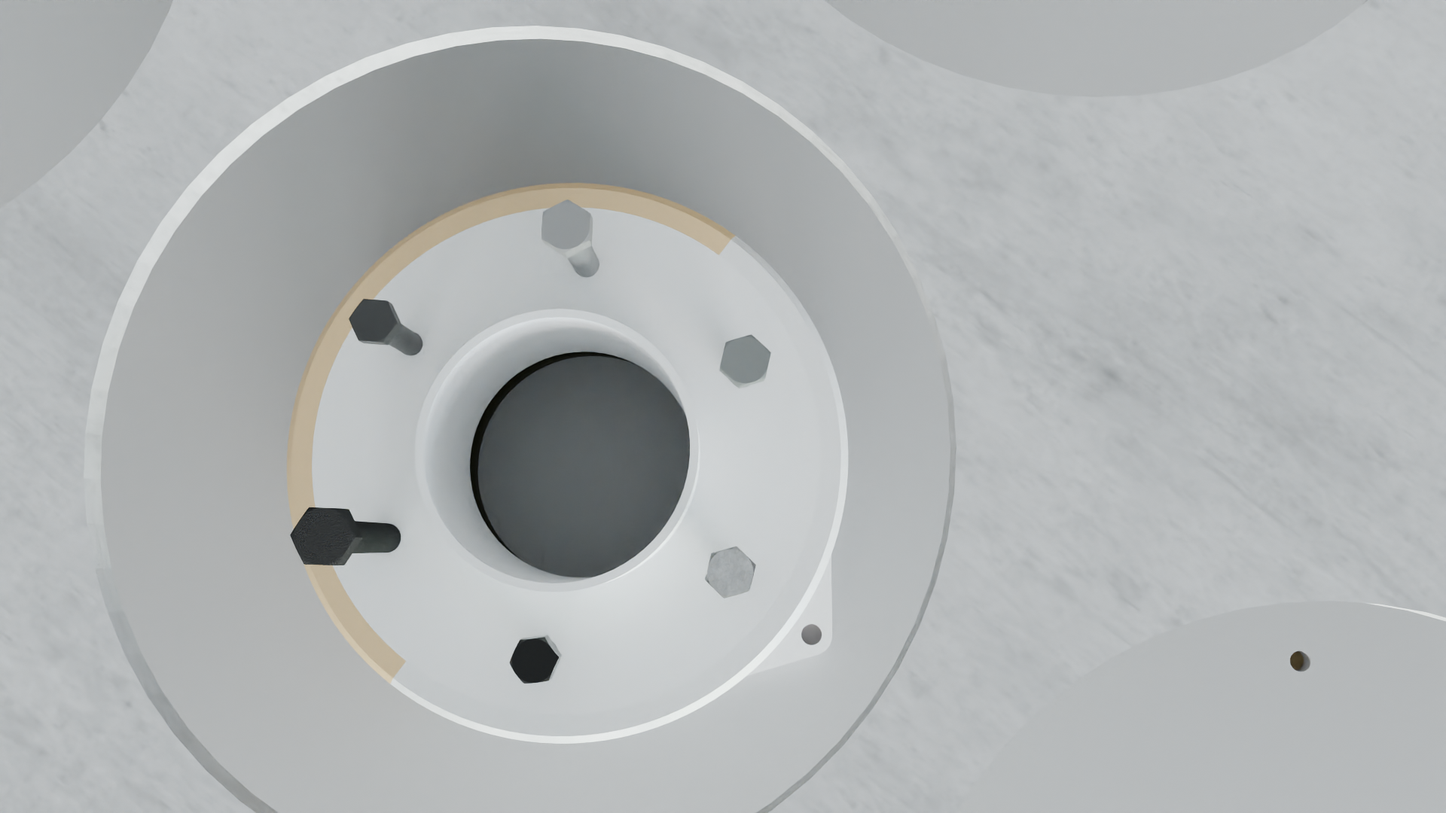bolt: (290, 507, 355, 565), (720, 334, 771, 386), (541, 199, 590, 253), (705, 547, 756, 598), (509, 637, 559, 684), (349, 299, 398, 343)
